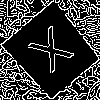X: (26, 26, 82, 82)
